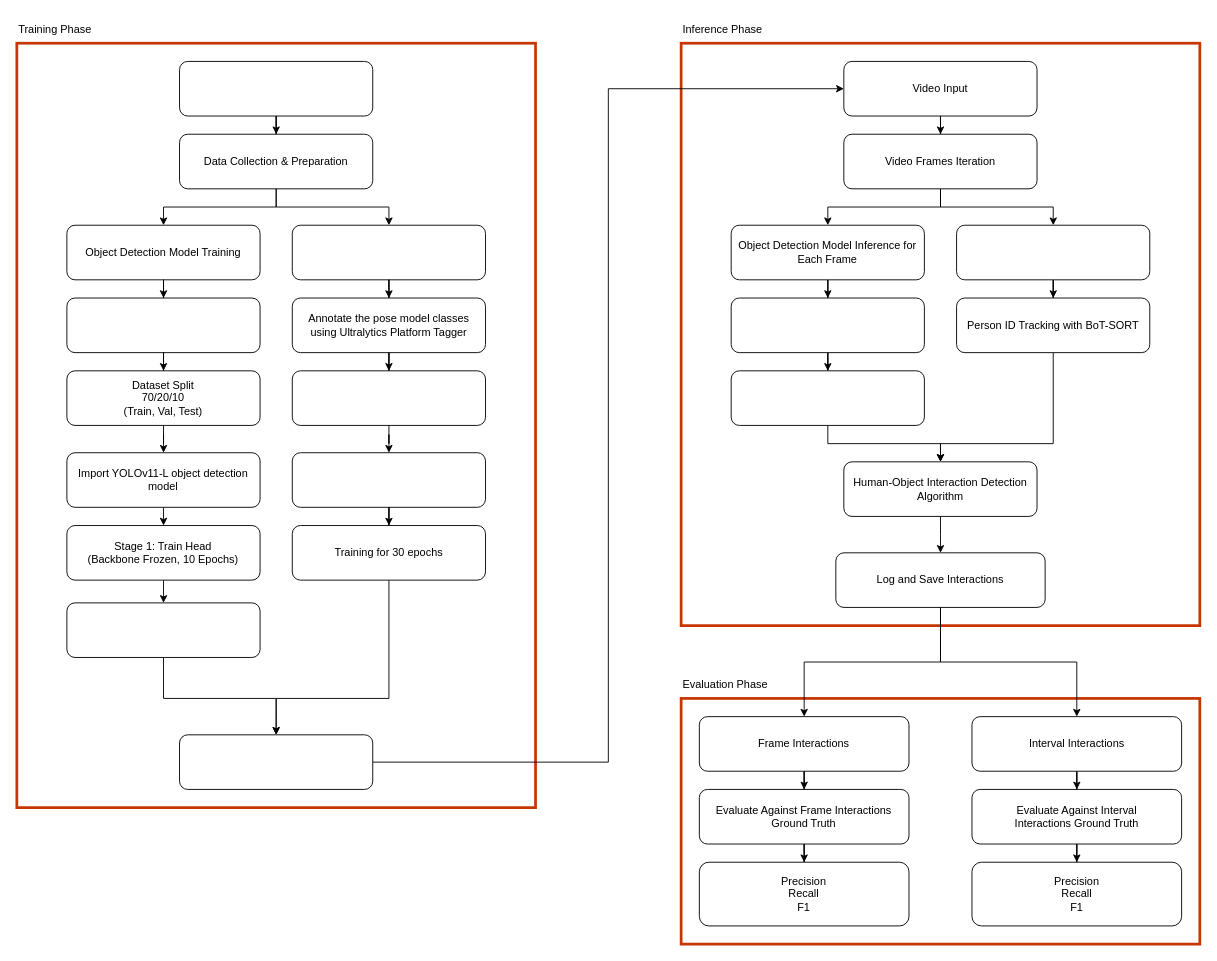
Some shapes in this 1217 by 961 pixel diagram are drawn without their labels. Here are the shapes that lost their labels. From the top down, the box of each, then its label:
(179, 61, 373, 116): Needs Analysis
(291, 224, 485, 280): Pose Estimation Model Training
(956, 224, 1150, 280): Pose Estimation Model Inference for Each Frame
(66, 297, 260, 353): Annotate the detect model classes using LabelImg
(730, 297, 924, 353): Object ID Tracking with BoT-SORT
(291, 370, 485, 425): Dataset Split 80/20 (Train, Val)
(730, 370, 924, 425): Interaction-ReID Algorithm
(291, 452, 485, 507): Import YOLOv11-X pose estimation model
(66, 602, 260, 657): Stage 2: Full Fine-Tune (Unfrozen, 100 Epochs
(179, 734, 373, 789): Model Validation
